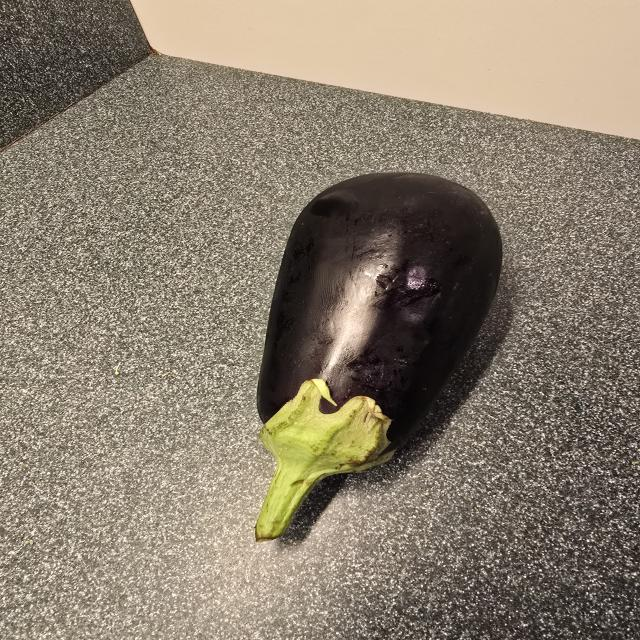Eggplant: (234, 159, 517, 565)
